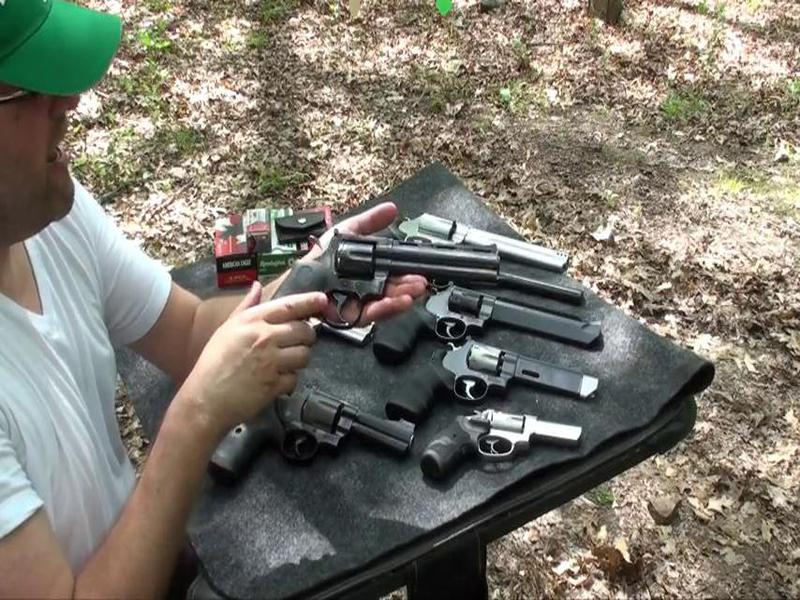Revolver: (262, 222, 521, 377)
